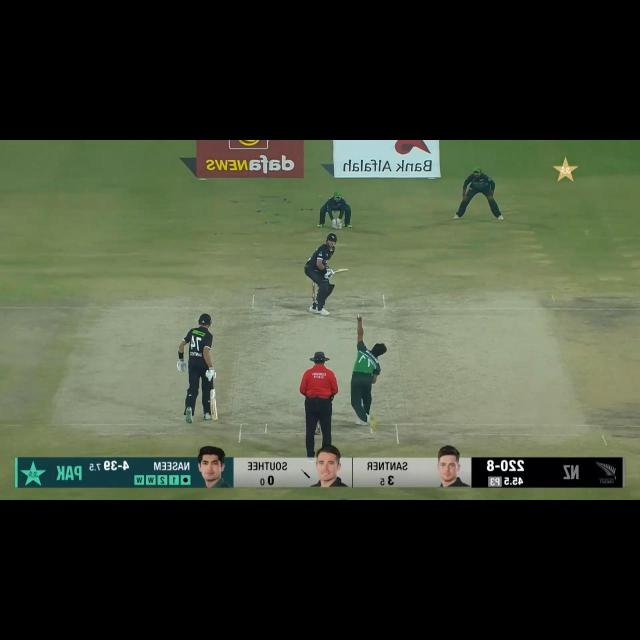bat: (210, 389, 218, 421), (333, 266, 350, 275)
toe: (210, 414, 219, 422), (343, 267, 349, 272)
